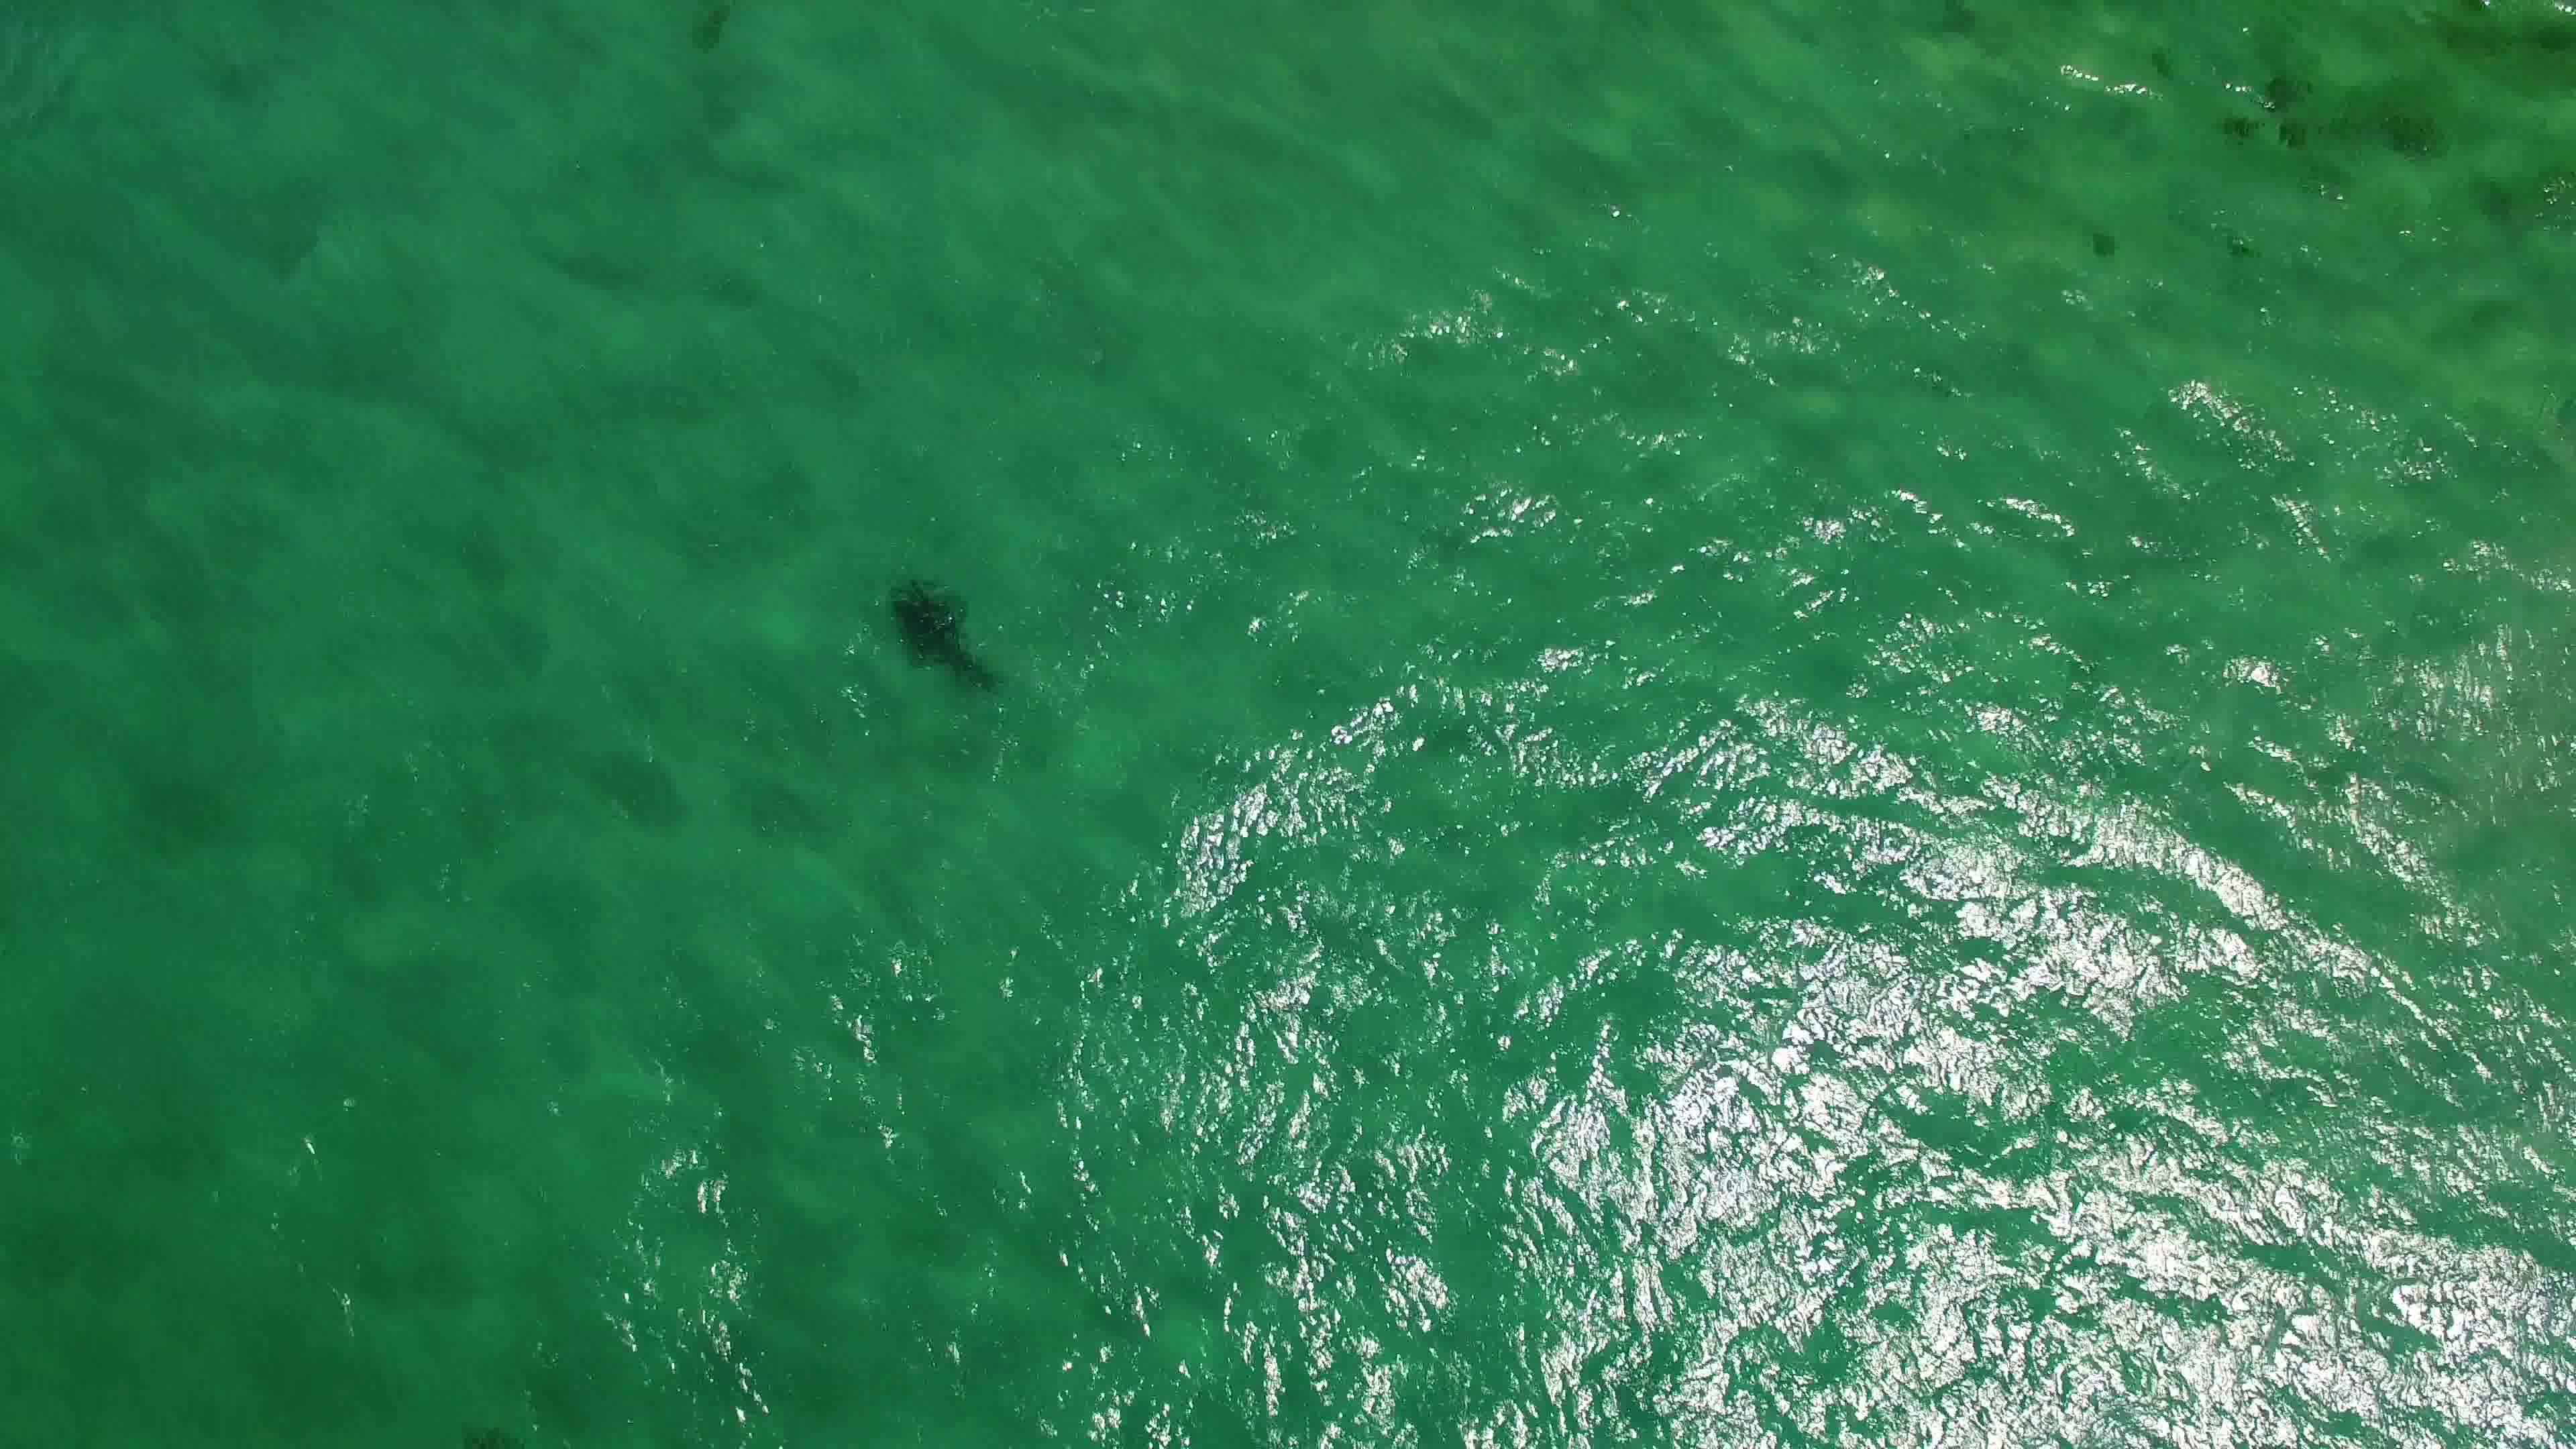shark: (878, 573, 1012, 702)
